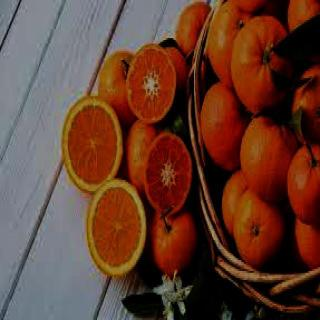orange: (56, 93, 130, 195), (90, 175, 147, 295), (135, 131, 194, 219), (121, 44, 179, 120)
